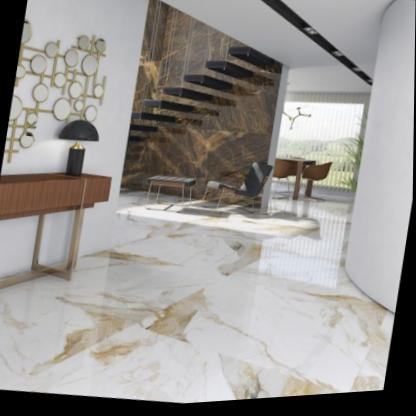Ceramic floor: (0, 222, 395, 406)
